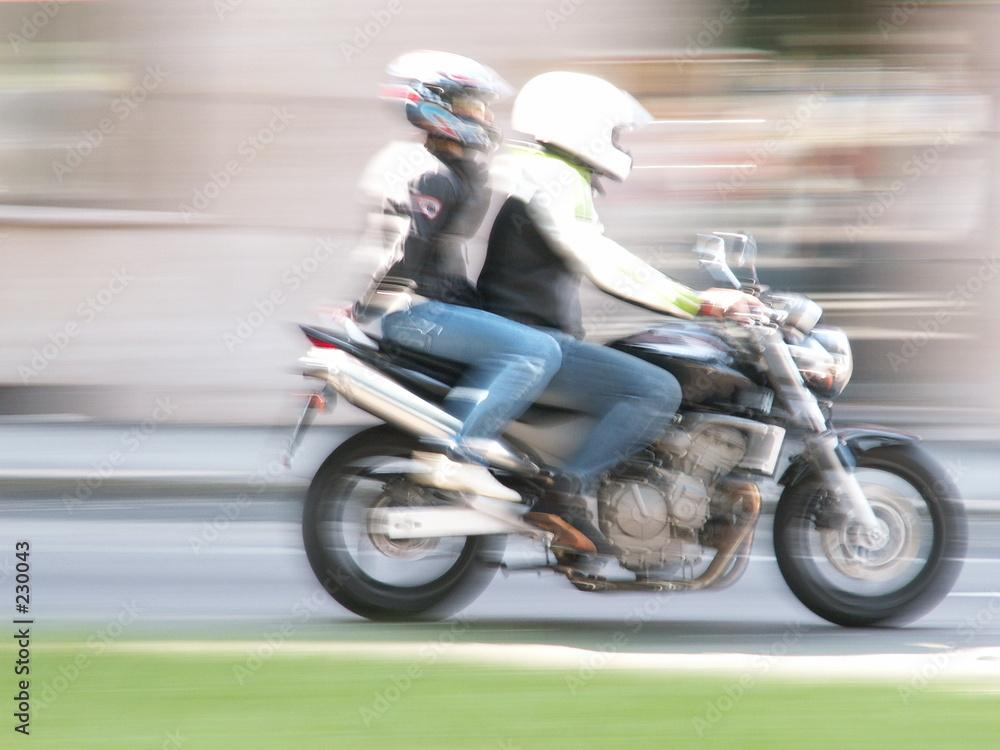helmet: (510, 69, 656, 184), (404, 48, 505, 156)
